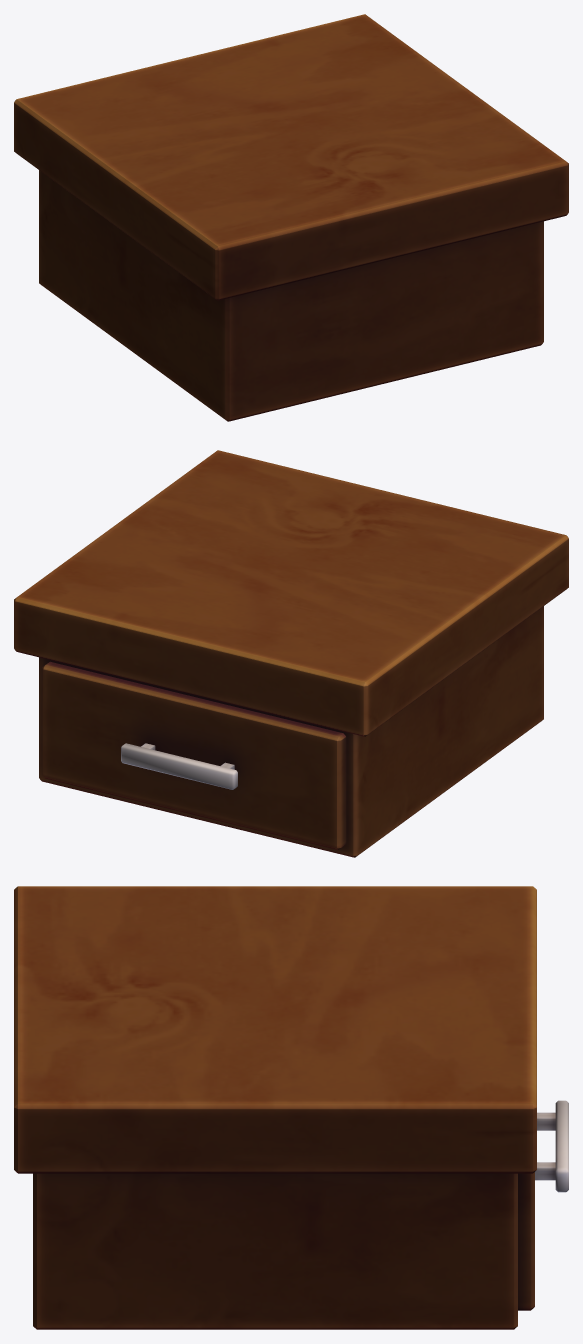
Rendered from CabinDrawerCounter.fbx.
The picture shows the model from 3 angles, top to bottom: view 1: azimuth 30°, elevation 25°; view 2: azimuth 150°, elevation 25°; view 3: azimuth 270°, elevation 25°; orthographic projection. The views are drawn at different scales.
Parts seen in each view (by area): view 1: Kitchen_Cabin-2; view 2: Kitchen_Cabin-2; view 3: Kitchen_Cabin-2.
Boxes of the visible parts, x1,y1,x2,y2 form: Kitchen_Cabin-2: [14, 14, 568, 421]; Kitchen_Cabin-2: [14, 450, 568, 857]; Kitchen_Cabin-2: [14, 886, 568, 1329].
Size of the model in its own units: 200 by 100 by 212.
Materials: 1 (1 with a texture image).
